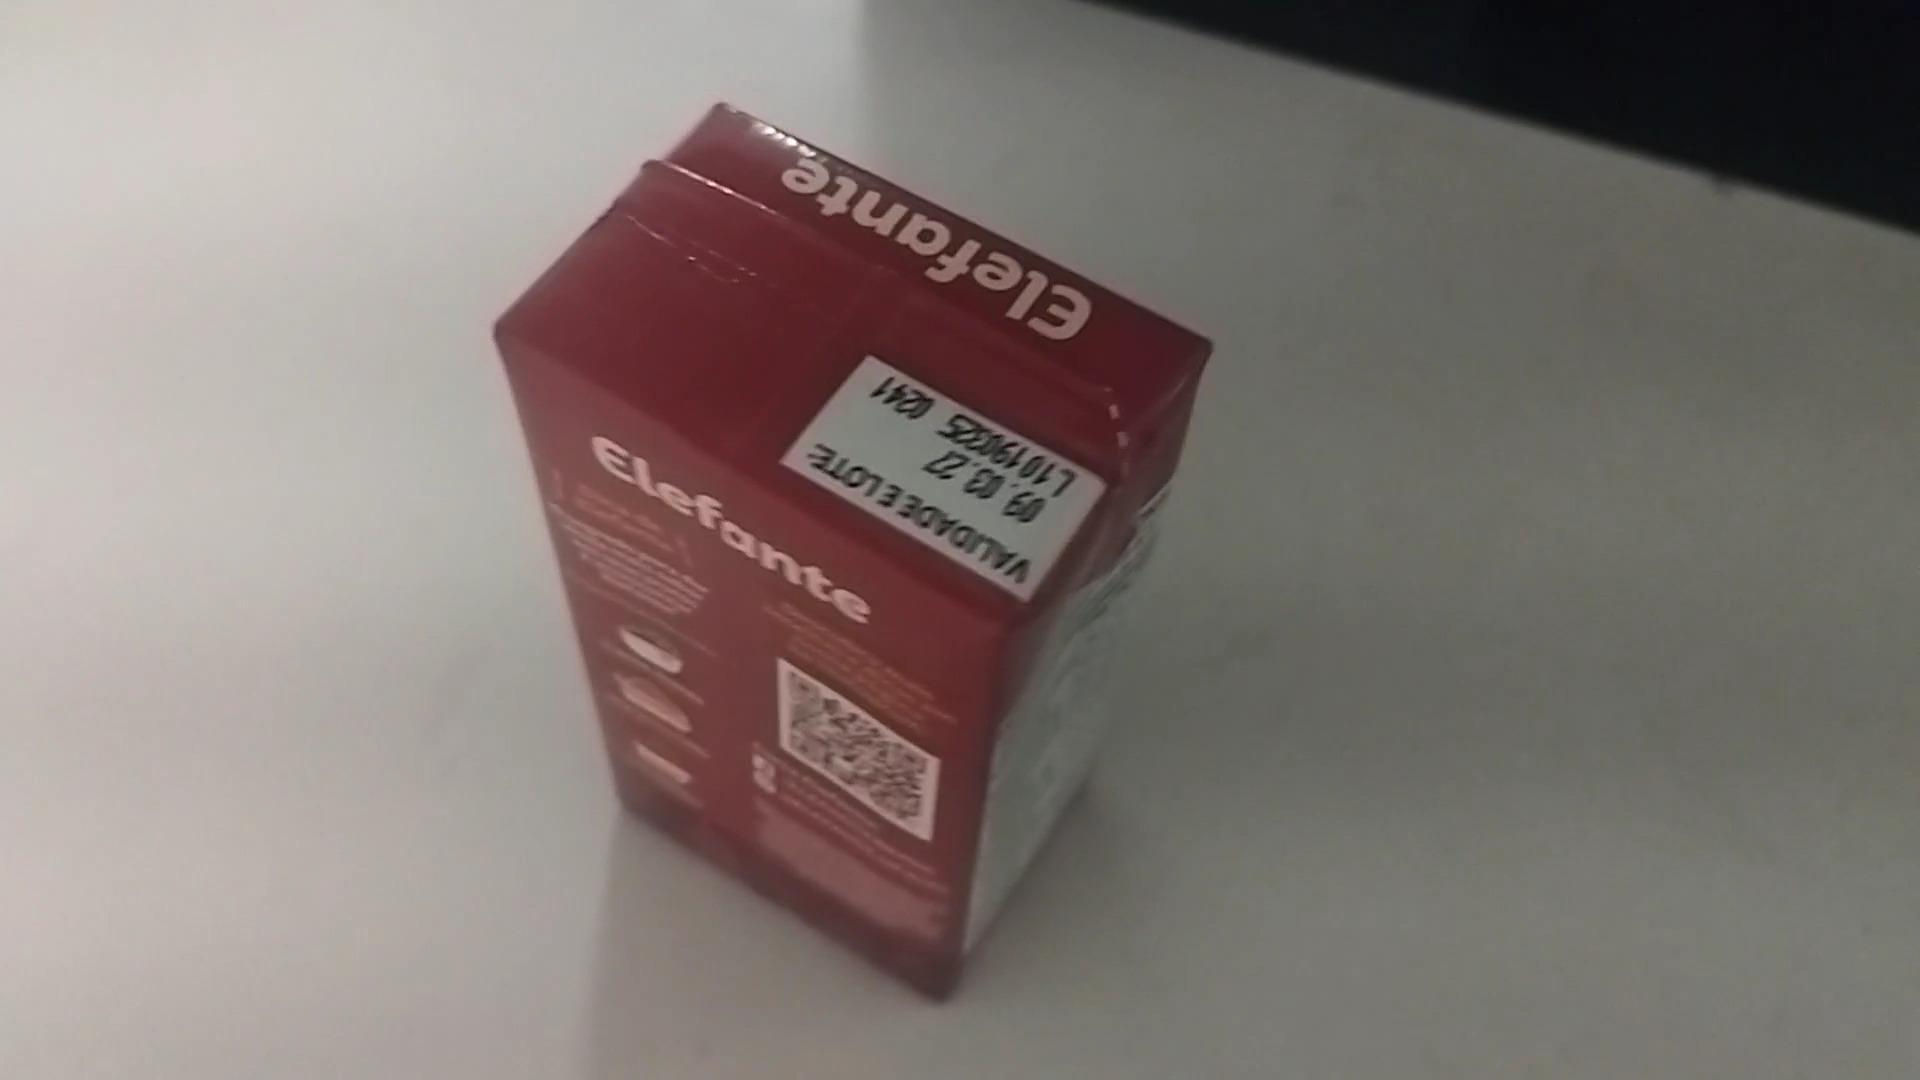tomate: (483, 103, 1213, 1005)
